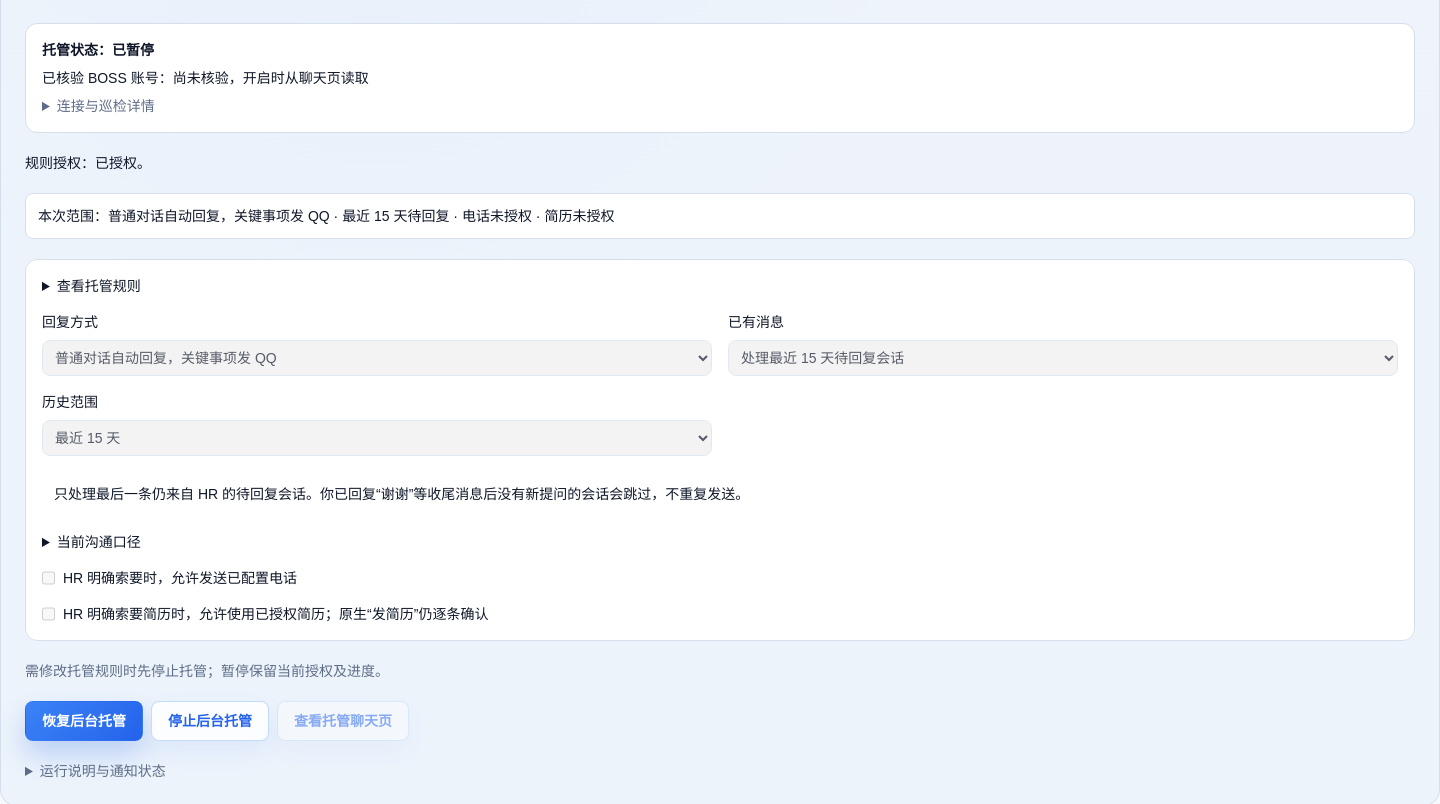
Test: resumes a paused host by revalidation without changing AUTO or sharing permissions
The image size is (1440, 804).
(page scrolled)
Click the button "恢复后台托管" at (84, 721), box left=25, top=701, right=143, bottom=741
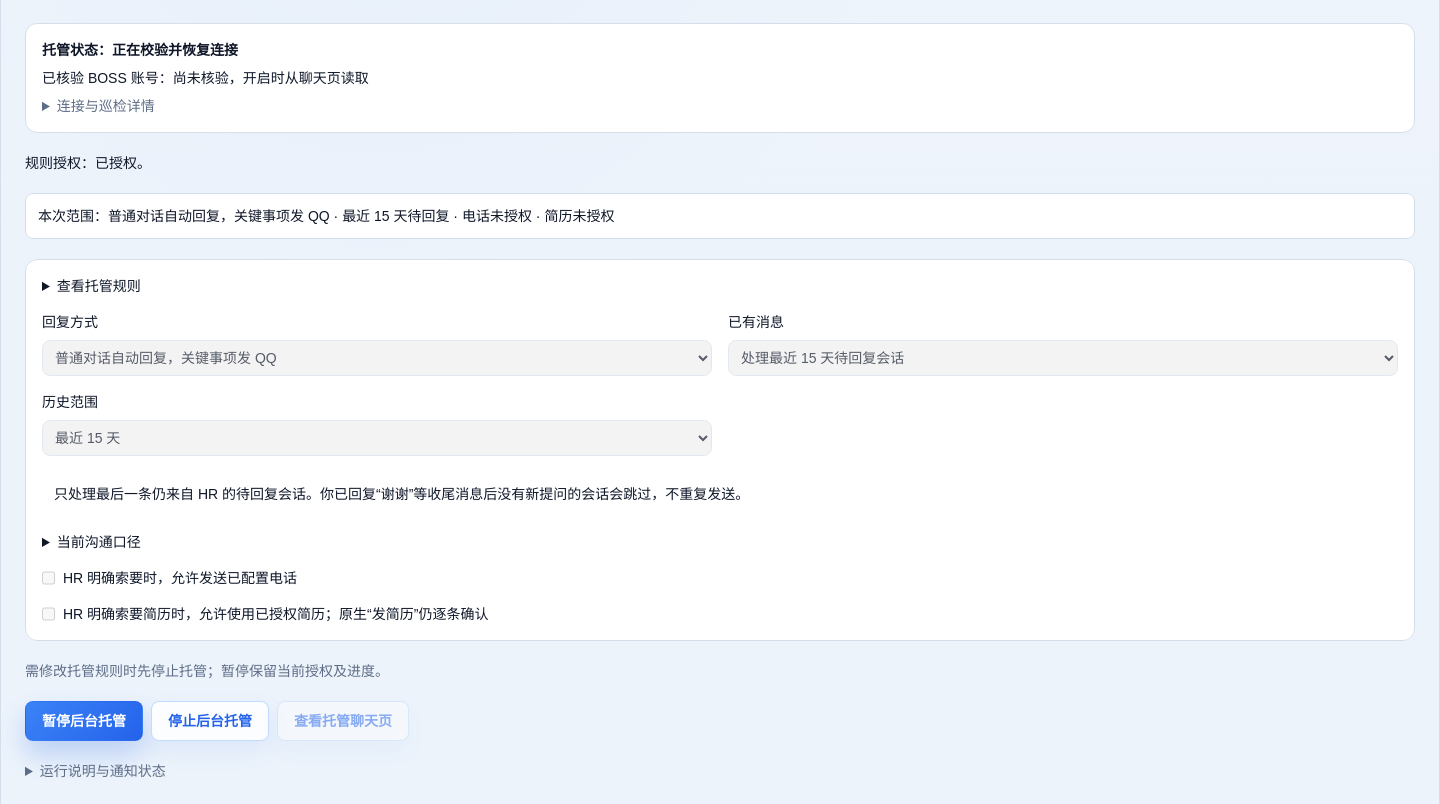
Expected: the text "托管状态：正在校验并恢复连接" is shown, left=42, top=42, right=238, bottom=58
